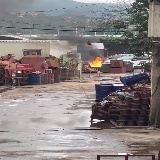fire: (89, 57, 102, 67)
